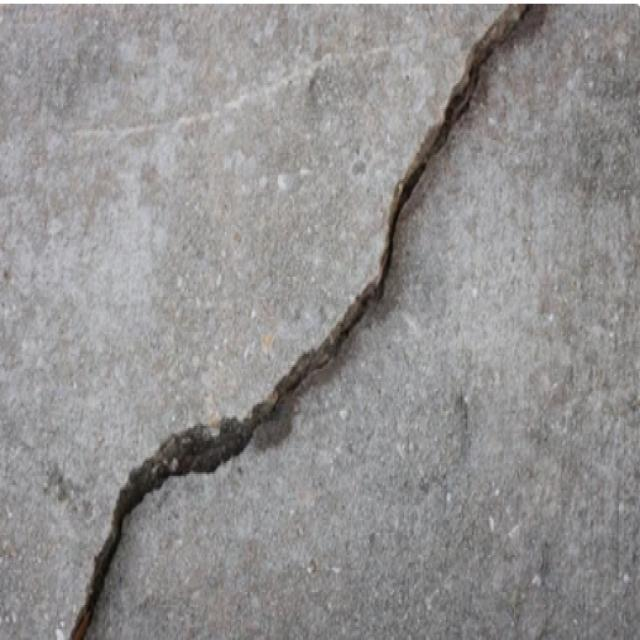diagonal crack: (70, 4, 531, 639)
